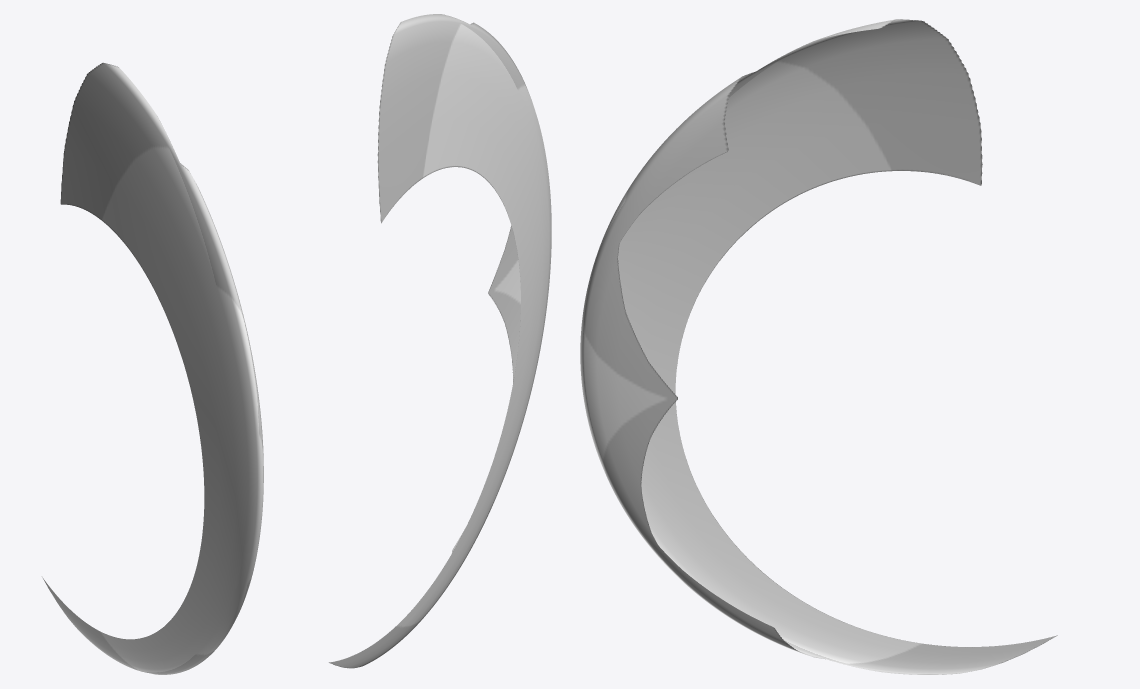
The model's file is daoguang2.FBX.
The picture shows the model from 3 angles, left to right: view 1: azimuth 30°, elevation 25°; view 2: azimuth 150°, elevation 25°; view 3: azimuth 270°, elevation 25°; orthographic projection. The views are drawn at different scales.
Parts seen in each view (by area): view 1: Plane001; view 2: Plane001; view 3: Plane001.
Boxes of the visible parts, x1=… form: Plane001: x1=42, y1=62, x2=263, y2=674; Plane001: x1=329, y1=14, x2=551, y2=668; Plane001: x1=580, y1=19, x2=1057, y2=674.
Size of the model in its own units: 4.37 by 62.18 by 46.5.
1 material, 1 textured.
